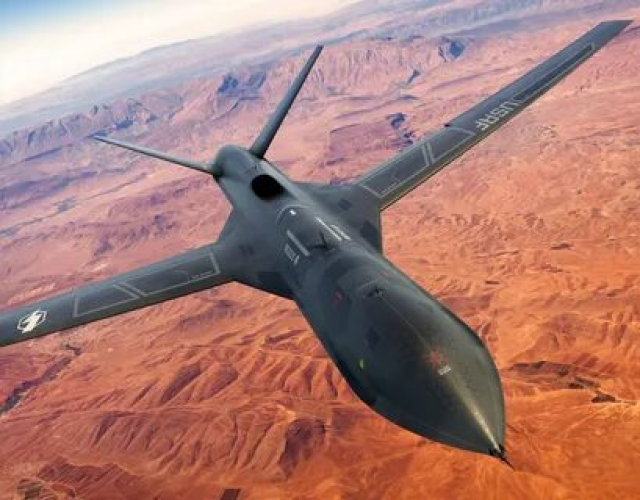military drone: (0, 20, 632, 475)
